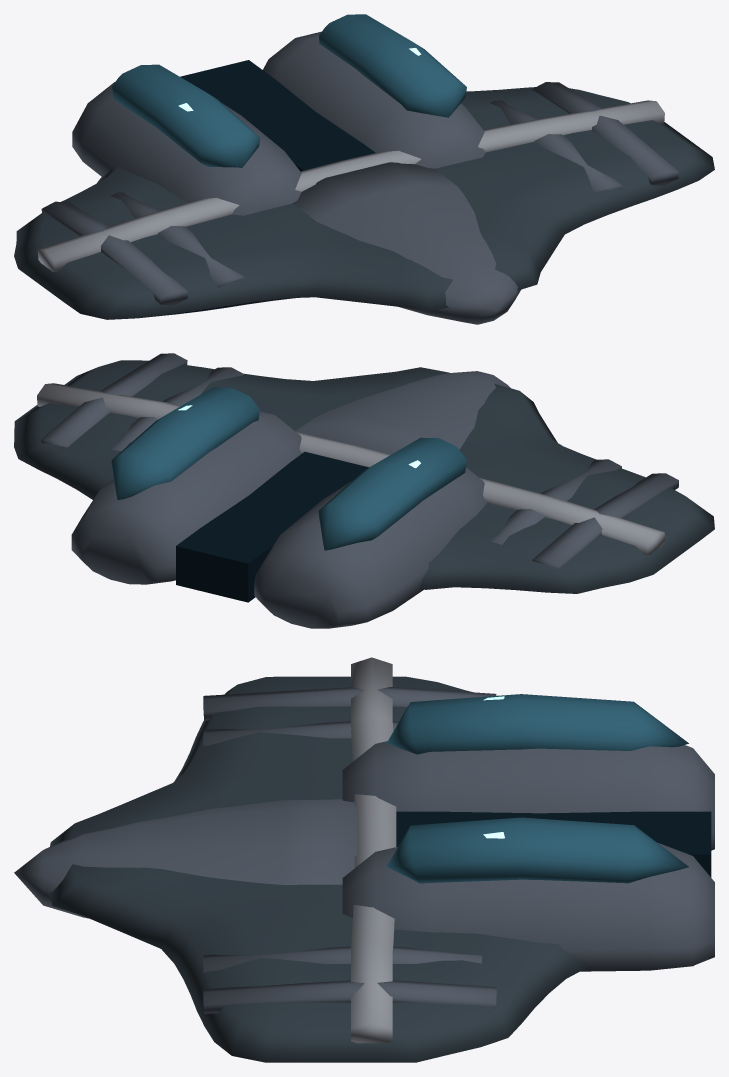
Rendered from newshh-284.glb.
The picture shows the model from 3 angles, top to bottom: view 1: azimuth 30°, elevation 25°; view 2: azimuth 150°, elevation 25°; view 3: azimuth 270°, elevation 25°; orthographic projection. The views are drawn at different scales.
Visible parts, largest first — view 1: newshh-284; view 2: newshh-284; view 3: newshh-284.
Part boxes in pixels (bbox=[...]): newshh-284: bbox=[14, 14, 714, 324]; newshh-284: bbox=[14, 353, 714, 628]; newshh-284: bbox=[14, 657, 714, 1062].
Size of the model in its own units: 2.05 by 0.3456 by 1.6.
